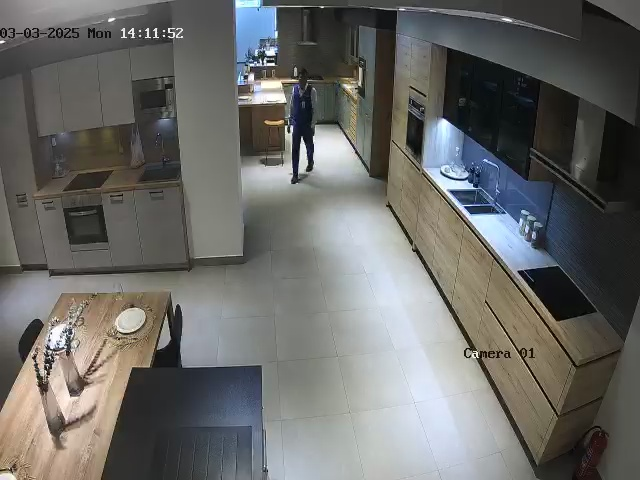employee: (286, 69, 318, 184)
